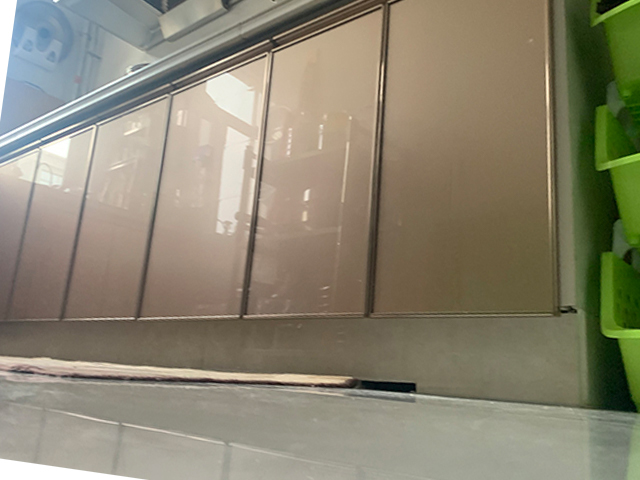cabinet: (1, 1, 620, 408)
carpet: (1, 353, 358, 388)
